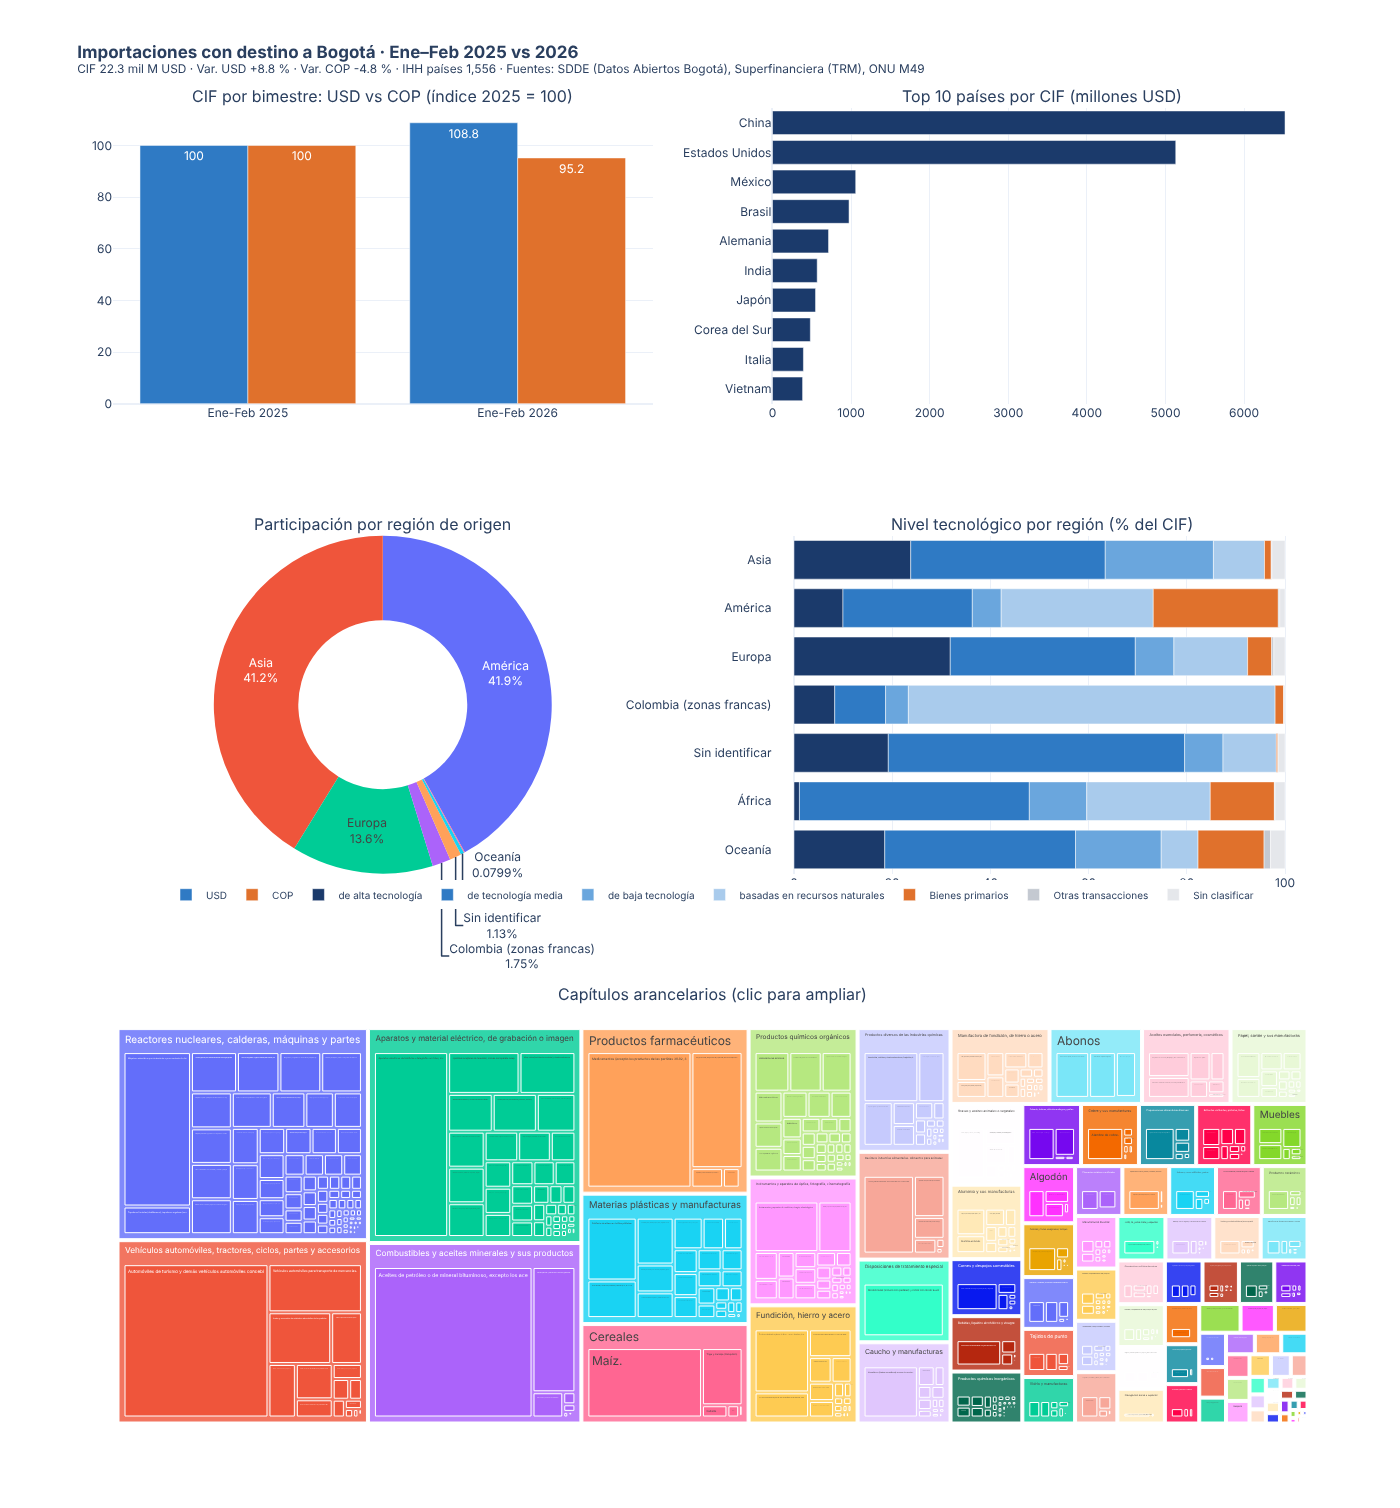

This screenshot's page, from the dashboard's own definition file:
{"tool":"powerbi","page":{"name":"Resumen","canvas":[1280,720],"ordinal":0},"visuals":[{"type":"textbox","box":[0,0,1280,56],"z":1000},{"type":"textbox","box":[0,56,184,664],"z":2000},{"type":"slicer","fields":{"Values":["Dim_Calendario.Anio"]},"box":[8,64,168,78],"z":3000},{"type":"slicer","fields":{"Values":["Dim_Calendario.Nombre_Mes"]},"box":[8,146,168,78],"z":4000},{"type":"slicer","fields":{"Values":["Dim_Origen.Region"]},"box":[8,228,168,110],"z":5000},{"type":"slicer","fields":{"Values":["Dim_Nivel_Tecnologico.Nivel_Tecnologico"]},"box":[8,342,168,140],"z":6000},{"type":"slicer","fields":{"Values":["Dim_Uso.Uso_Economico"]},"box":[8,486,168,110],"z":7000},{"type":"slicer","fields":{"Values":["Dim_Origen.Origen"]},"box":[8,600,168,64],"z":8000},{"type":"textbox","box":[8,668,168,46],"z":9000},{"type":"card","fields":{"Values":["_Medidas.CIF Total"]},"box":[192,64,209.6,84],"z":10000},{"type":"card","fields":{"Values":["_Medidas.FOB Total"]},"box":[409.6,64,209.6,84],"z":11000},{"type":"card","fields":{"Values":["_Medidas.Var. Interanual %"]},"box":[627.2,64,209.6,84],"z":12000},{"type":"card","fields":{"Values":["_Medidas.% Alta Tecnologia"]},"box":[844.8,64,209.6,84],"z":13000},{"type":"card","fields":{"Values":["_Medidas.Origenes"]},"box":[1062.4,64,209.6,84],"z":14000},{"type":"clusteredBarChart","title":"Top 10 orígenes por valor CIF","fields":{"Category":["Dim_Origen.Origen"],"Y":["_Medidas.CIF Total"]},"box":[192,156,420,276],"z":15000},{"type":"clusteredColumnChart","title":"CIF por mes: 2025 vs 2026","fields":{"Category":["Dim_Calendario.Nombre_Mes"],"Series":["Dim_Calendario.Anio"],"Y":["_Medidas.CIF Total"]},"box":[620,156,330,276],"z":16000},{"type":"donutChart","title":"Participación por nivel tecnológico","fields":{"Category":["Dim_Nivel_Tecnologico.Nivel_Tecnologico"],"Y":["_Medidas.CIF Total"]},"box":[958,156,314,276],"z":17000},{"type":"treemap","title":"Capítulos arancelarios por CIF (doble clic: ver partidas)","fields":{"Group":["Dim_Partida.Capitulo_Etiqueta","Dim_Partida.Partida_Corta"],"Values":["_Medidas.CIF Total"]},"box":[192,440,540,274],"z":18000},{"type":"hundredPercentStackedBarChart","title":"Uso económico según nivel tecnológico (100 %)","fields":{"Category":["Dim_Uso.Uso_Economico"],"Series":["Dim_Nivel_Tecnologico.Nivel_Tecnologico"],"Y":["_Medidas.CIF Total"]},"box":[740,440,532,274],"z":19000}]}

Visuals, with their boxes on the page's 1280x720 design canvas (x1, y1, x2, y2). These are canvas units, not pixel positions in the 1400x1508 screenshot, which may show the page scaled, cropped or inside an application window:
textbox: x1=0 y1=0 x2=1280 y2=56
textbox: x1=0 y1=56 x2=184 y2=720
slicer - Dim_Calendario.Anio: x1=8 y1=64 x2=176 y2=142
slicer - Dim_Calendario.Nombre_Mes: x1=8 y1=146 x2=176 y2=224
slicer - Dim_Origen.Region: x1=8 y1=228 x2=176 y2=338
slicer - Dim_Nivel_Tecnologico.Nivel_Tecnologico: x1=8 y1=342 x2=176 y2=482
slicer - Dim_Uso.Uso_Economico: x1=8 y1=486 x2=176 y2=596
slicer - Dim_Origen.Origen: x1=8 y1=600 x2=176 y2=664
textbox: x1=8 y1=668 x2=176 y2=714
card - _Medidas.CIF Total: x1=192 y1=64 x2=402 y2=148
card - _Medidas.FOB Total: x1=410 y1=64 x2=619 y2=148
card - _Medidas.Var. Interanual %: x1=627 y1=64 x2=837 y2=148
card - _Medidas.% Alta Tecnologia: x1=845 y1=64 x2=1054 y2=148
card - _Medidas.Origenes: x1=1062 y1=64 x2=1272 y2=148
"Top 10 orígenes por valor CIF" clusteredBarChart: x1=192 y1=156 x2=612 y2=432
"CIF por mes: 2025 vs 2026" clusteredColumnChart: x1=620 y1=156 x2=950 y2=432
"Participación por nivel tecnológico" donutChart: x1=958 y1=156 x2=1272 y2=432
"Capítulos arancelarios por CIF (doble clic: ver partidas)" treemap: x1=192 y1=440 x2=732 y2=714
"Uso económico según nivel tecnológico (100 %)" hundredPercentStackedBarChart: x1=740 y1=440 x2=1272 y2=714
